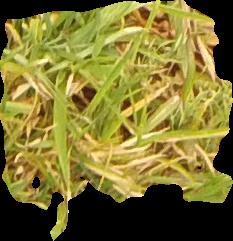grass: (1, 1, 232, 239)
